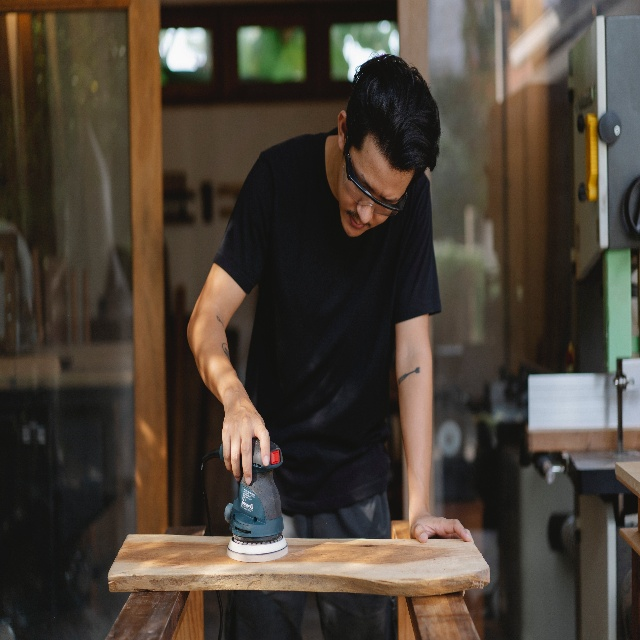Gafas: (342, 133, 409, 216)
Sin_guantes: (221, 390, 271, 486), (409, 512, 471, 542)
